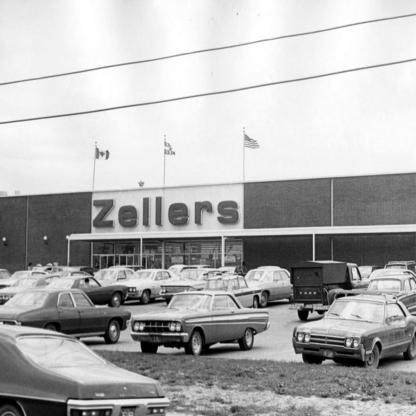Car: (0, 262, 415, 415)
